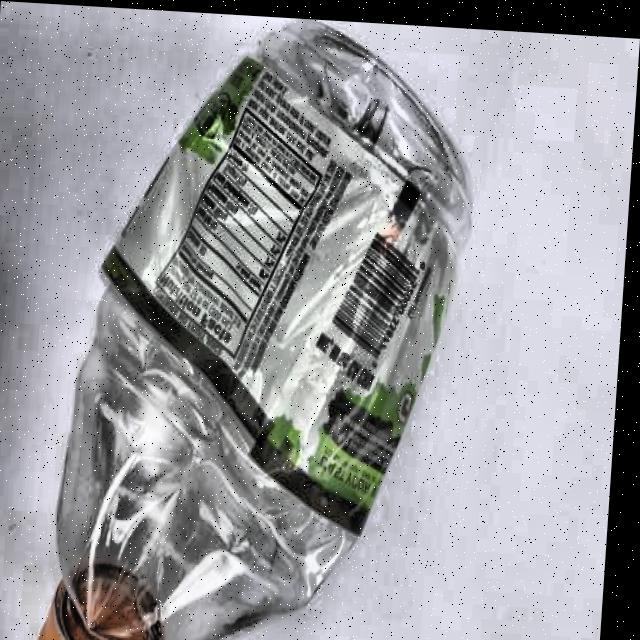plastic: (29, 4, 487, 640)
